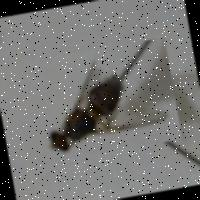Oriental-fruit-fly: (24, 36, 182, 162)
